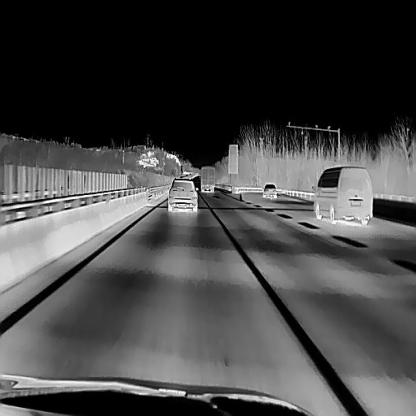car: (311, 165, 372, 224), (166, 176, 198, 212), (261, 182, 277, 198)
truck: (200, 164, 215, 192)
